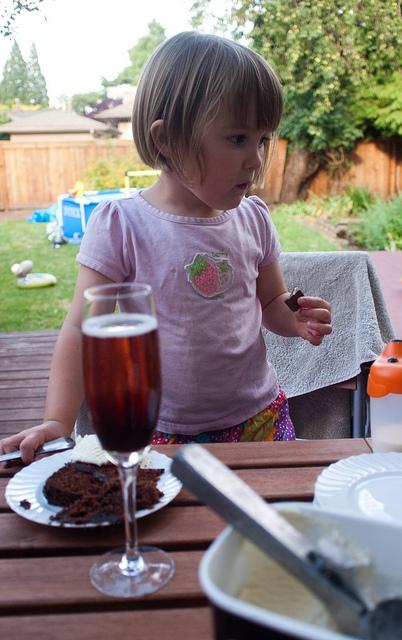strawberry: (184, 252, 218, 297), (214, 262, 230, 292)
